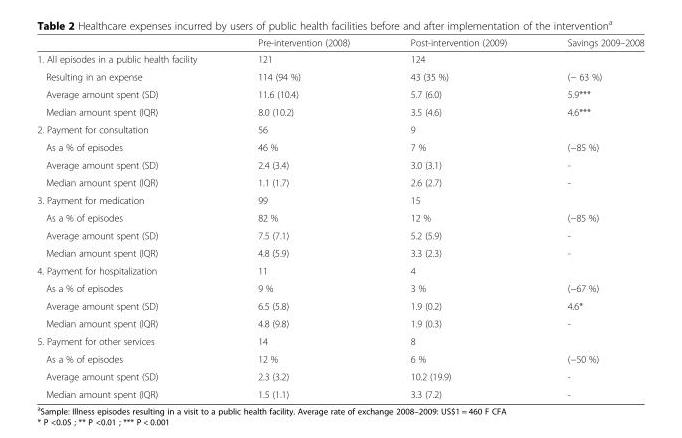table: (36, 36, 643, 399)
table column: (36, 36, 226, 399), (379, 36, 536, 399), (226, 36, 379, 399), (536, 36, 643, 399)
table column header: (36, 36, 643, 50)
table row: (36, 67, 643, 85), (36, 102, 643, 120), (36, 137, 643, 155), (36, 155, 643, 173), (36, 173, 643, 191), (36, 208, 643, 226), (36, 243, 643, 261), (36, 278, 643, 296), (36, 296, 643, 314), (36, 314, 643, 332), (36, 349, 643, 367), (36, 367, 643, 385), (36, 50, 643, 67), (36, 85, 643, 102), (36, 120, 643, 137), (36, 191, 643, 208), (36, 226, 643, 243), (36, 261, 643, 278), (36, 332, 643, 349), (36, 36, 643, 50), (36, 385, 643, 399)
